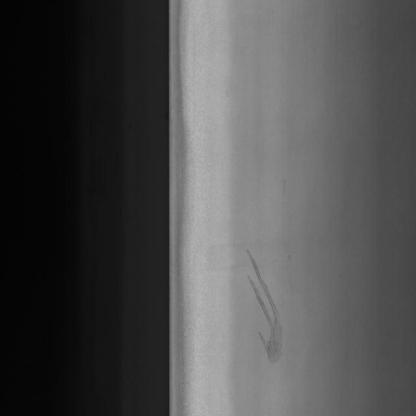water_spot: (242, 244, 292, 375)
